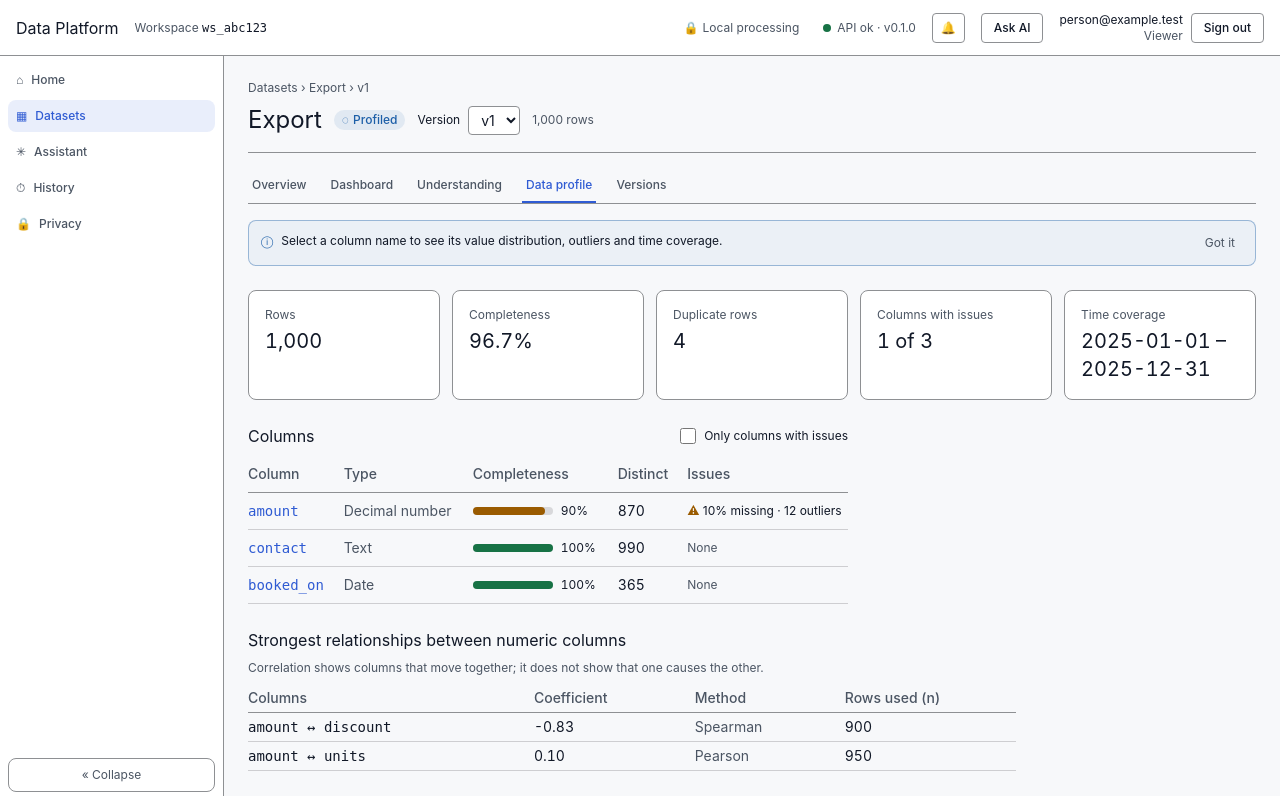
Test: ProfileViewer (TASK-UI-006) › shows outliers and temporal grain in the column detail
Click the button "amount" at (273, 511), box [248, 501, 299, 521]
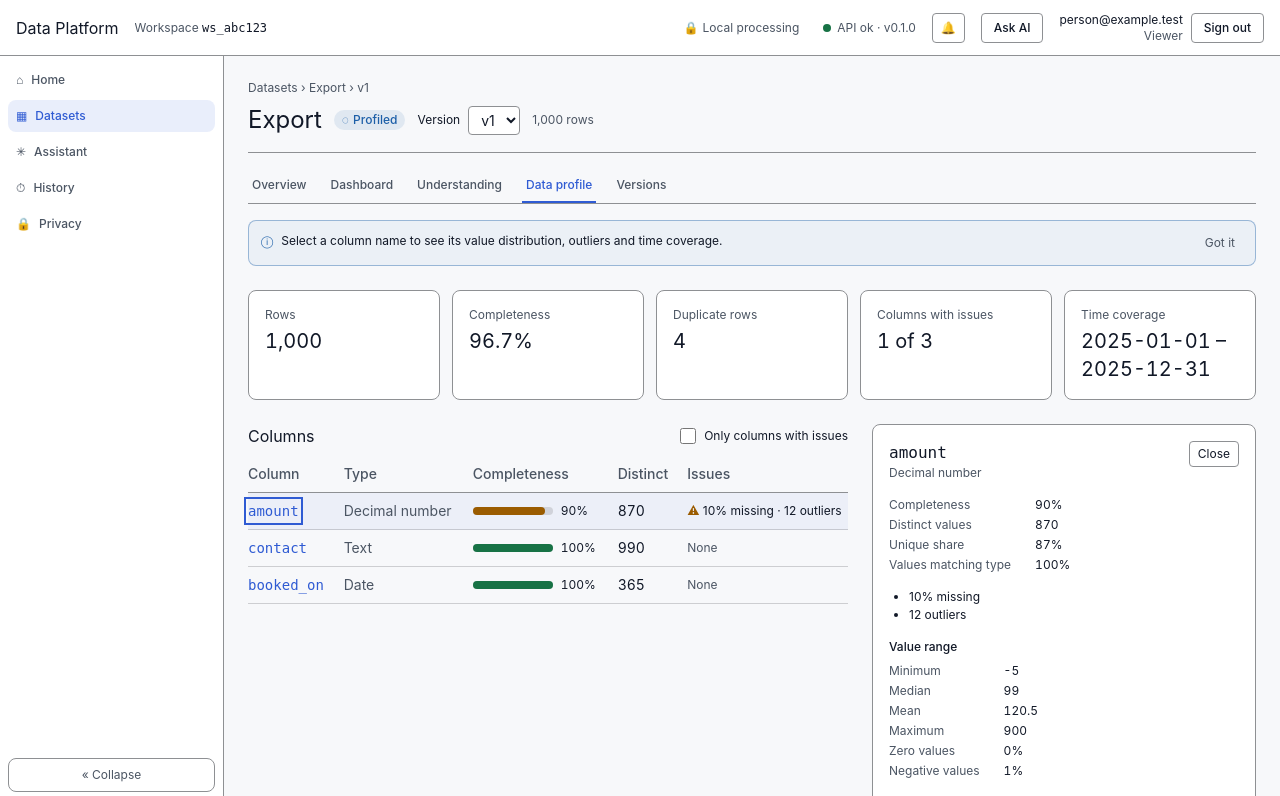
Click the button "booked_on" at (286, 585), box [248, 575, 324, 595]
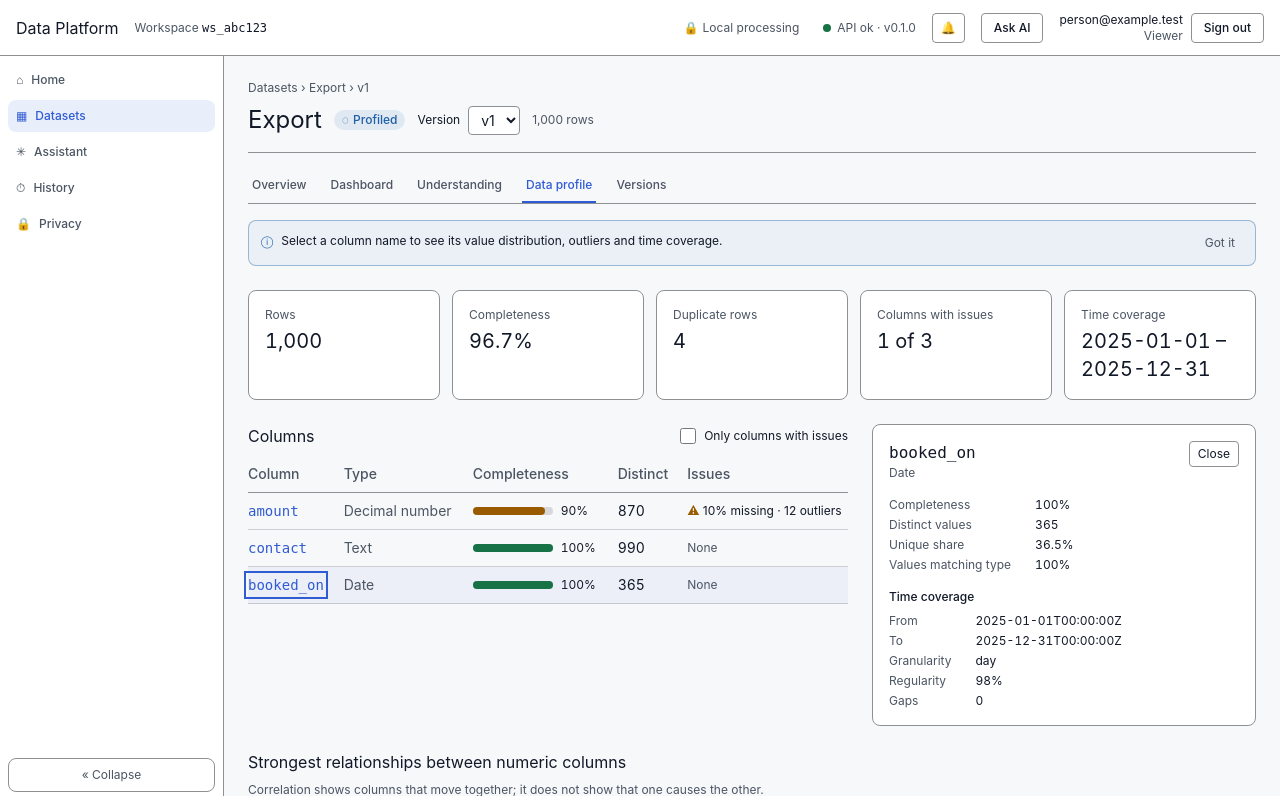
Check: the text "day" is shown, box [976, 653, 996, 668]
